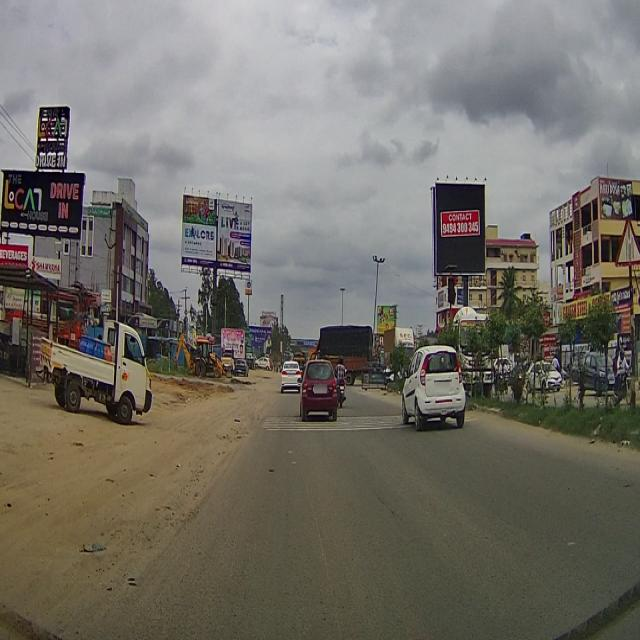gap-in-median: (612, 215, 640, 283)
